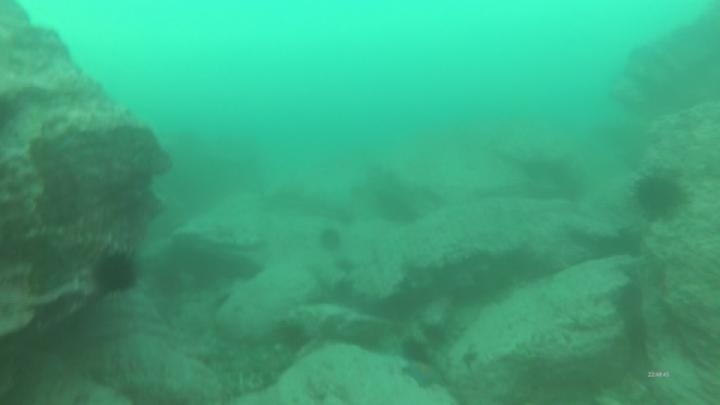echinus: (630, 168, 689, 222), (90, 247, 141, 297), (271, 317, 311, 354), (611, 281, 647, 320), (398, 335, 432, 366), (420, 320, 451, 350), (315, 225, 345, 254)
starfish: (399, 358, 446, 391)
